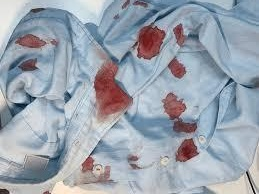blood: (97, 62, 126, 113), (136, 27, 165, 60), (176, 138, 198, 163), (164, 94, 185, 120), (168, 57, 186, 79), (15, 36, 47, 48), (174, 121, 197, 133), (121, 1, 148, 11), (18, 58, 38, 71), (175, 23, 184, 46), (81, 157, 94, 172), (129, 154, 139, 169), (104, 166, 110, 179)
